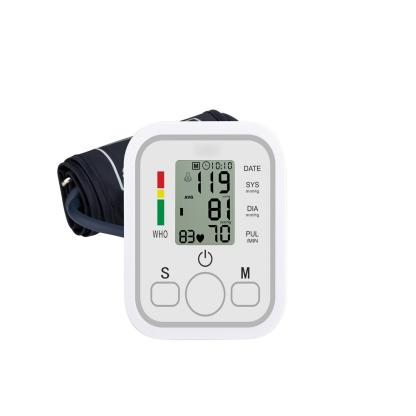Displays: (175, 160, 235, 245)
